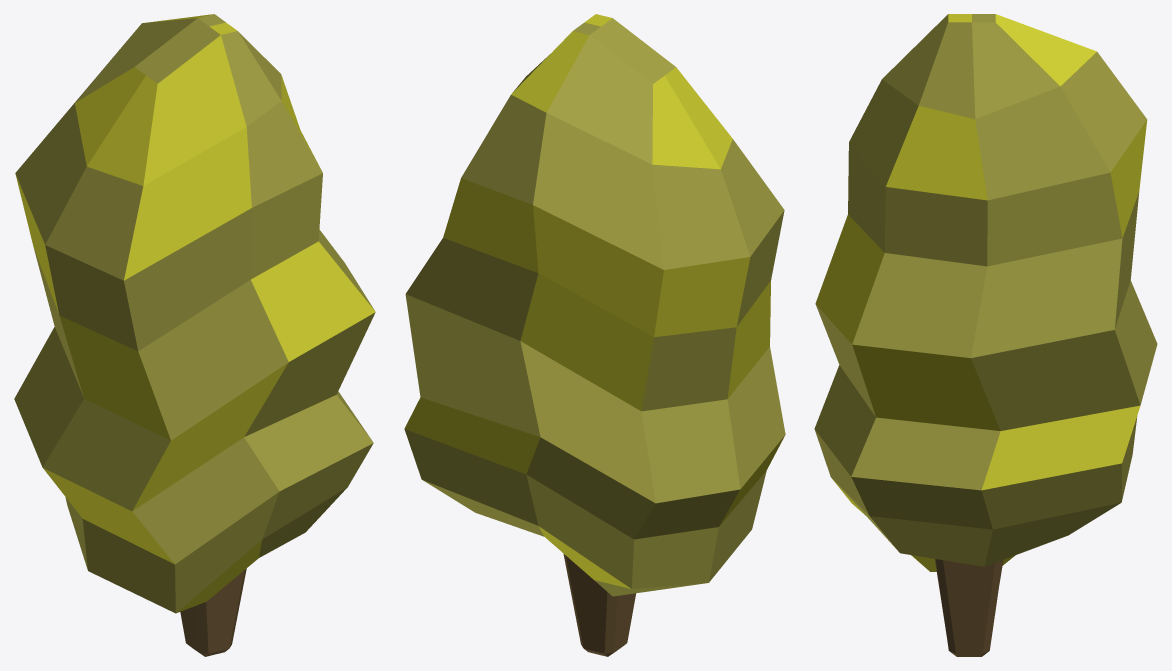
File: Tree_2_Yellow.fbx
3 views of the same model, side by side, from view 1: azimuth 30°, elevation 25°; view 2: azimuth 150°, elevation 25°; view 3: azimuth 270°, elevation 25° (orthographic). The views are drawn at different scales.
Parts seen in each view (by area): view 1: Tree_2_Yellow_Part_2, Tree_2_Yellow_Part_3, Tree_2_Yellow_Part_1; view 2: Tree_2_Yellow_Part_2, Tree_2_Yellow_Part_3, Tree_2_Yellow_Part_1; view 3: Tree_2_Yellow_Part_2, Tree_2_Yellow_Part_3, Tree_2_Yellow_Part_1.
Boxes of the visible parts, box(x1,y1,x2,y2) form: Tree_2_Yellow_Part_2: box(14, 14, 375, 613); Tree_2_Yellow_Part_3: box(15, 14, 375, 613); Tree_2_Yellow_Part_1: box(180, 568, 246, 656); Tree_2_Yellow_Part_2: box(404, 18, 785, 596); Tree_2_Yellow_Part_3: box(404, 14, 784, 588); Tree_2_Yellow_Part_1: box(563, 553, 635, 656); Tree_2_Yellow_Part_2: box(814, 14, 1157, 566); Tree_2_Yellow_Part_3: box(815, 14, 1147, 571); Tree_2_Yellow_Part_1: box(935, 559, 1003, 656).
Bounding box in the file's own units: 237 × 483 × 235.
